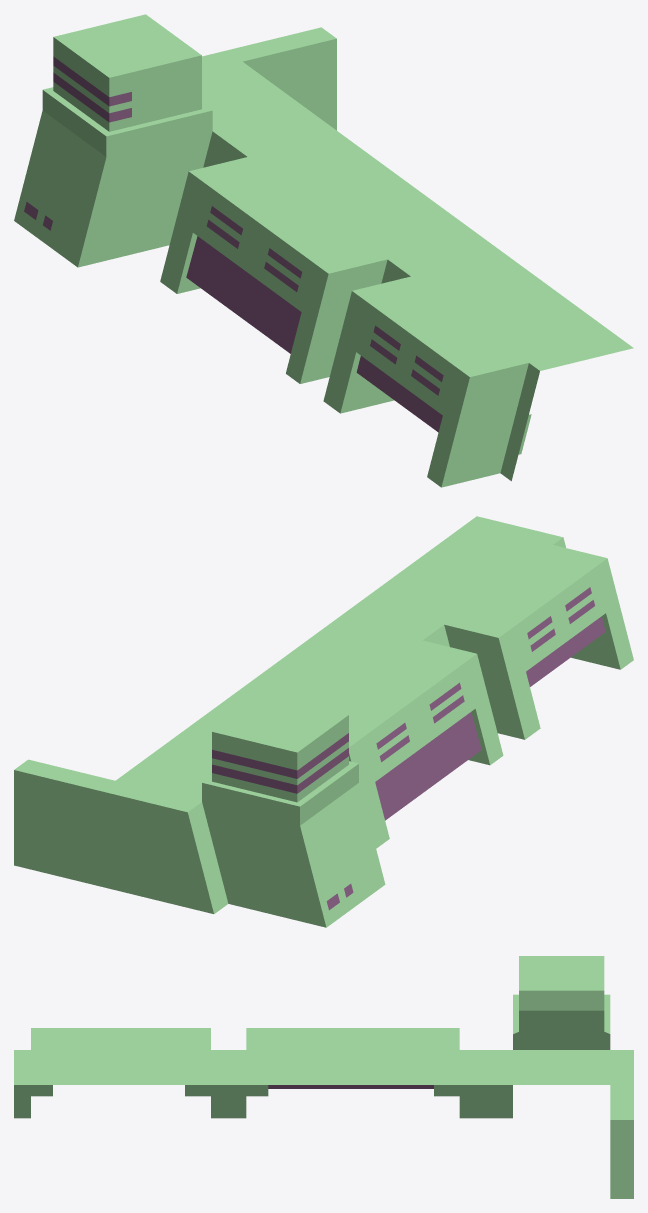
Rendered from hangar.glb.
3 renders of one model, top to bottom at view 1: azimuth 30°, elevation 25°; view 2: azimuth 150°, elevation 25°; view 3: azimuth 270°, elevation 25°, orthographic. The views are drawn at different scales.
Visible parts, largest first — view 1: hangar; view 2: hangar; view 3: hangar.
Boxes of the visible parts, box(x1,y1,x2,y2) form: hangar: box(14, 14, 633, 487); hangar: box(14, 516, 633, 927); hangar: box(14, 956, 633, 1198).
Bounding box in the file's own units: 27.38 × 14.43 × 59.74.
